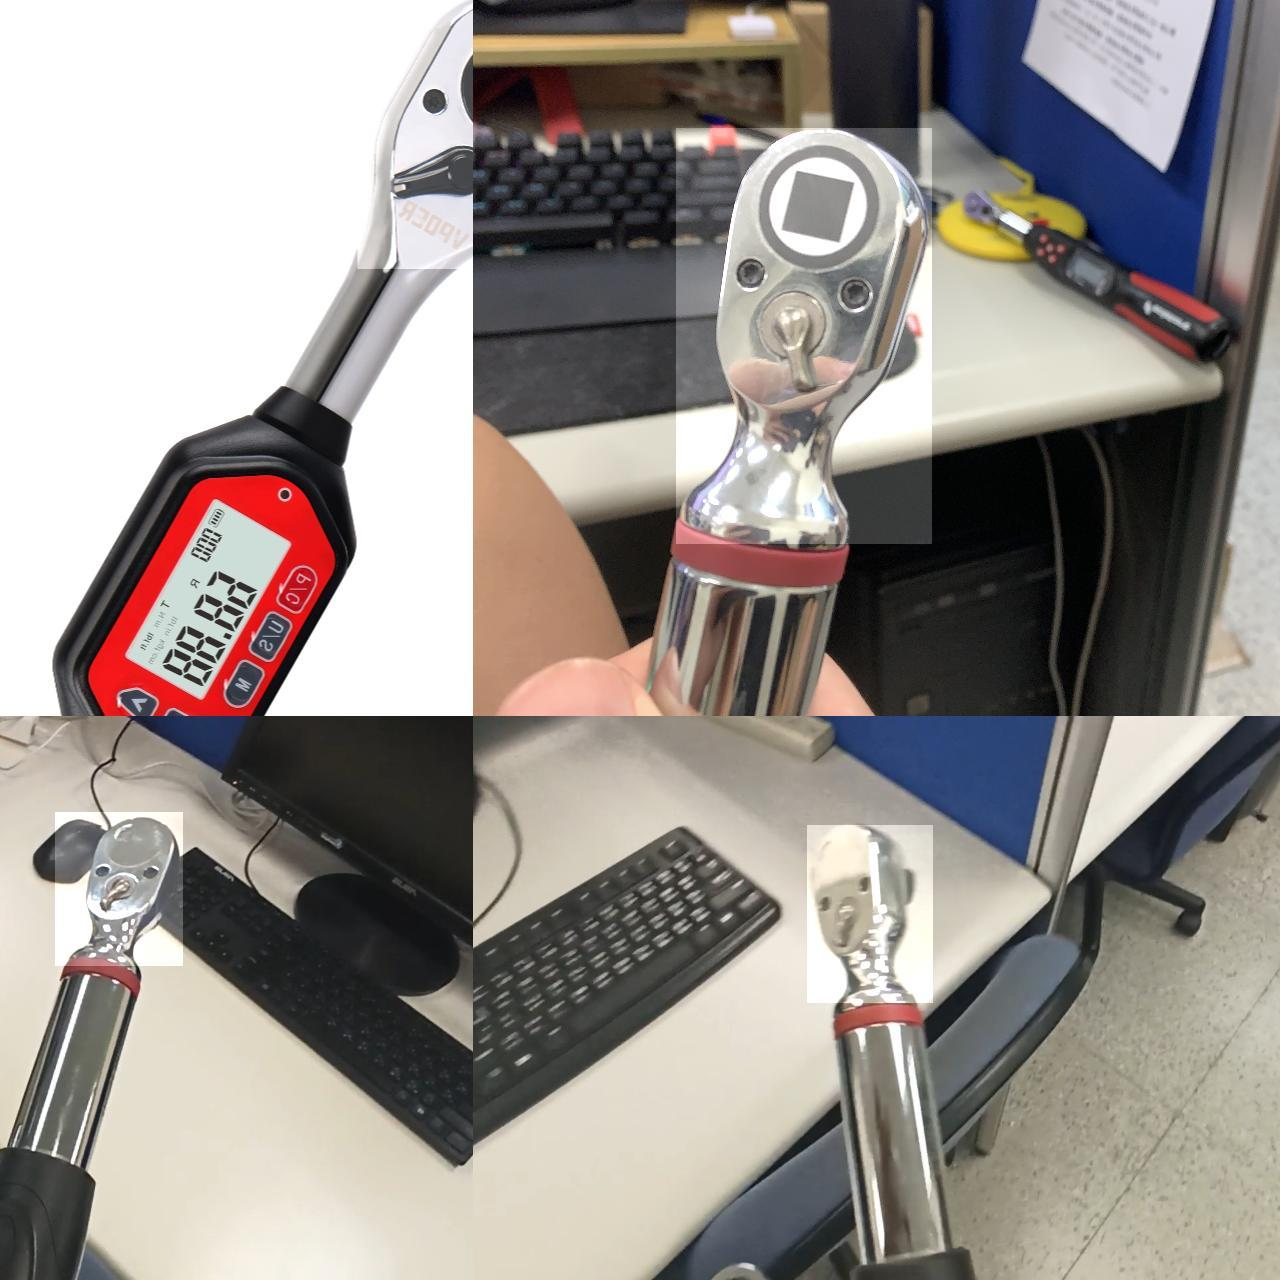Tool: (675, 127, 931, 543), (358, 0, 474, 268), (806, 824, 932, 1002), (54, 811, 182, 965)
